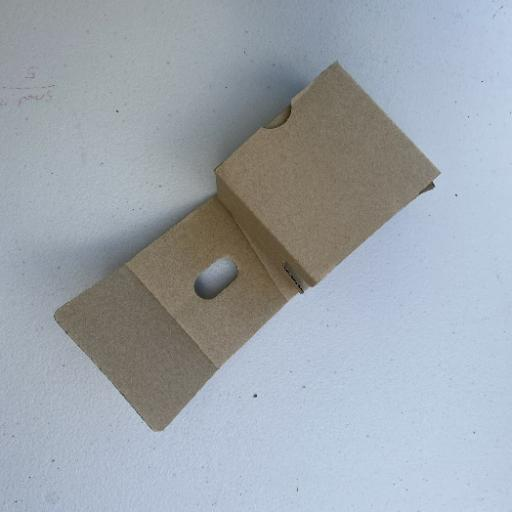Cardboard: (52, 58, 442, 433)
